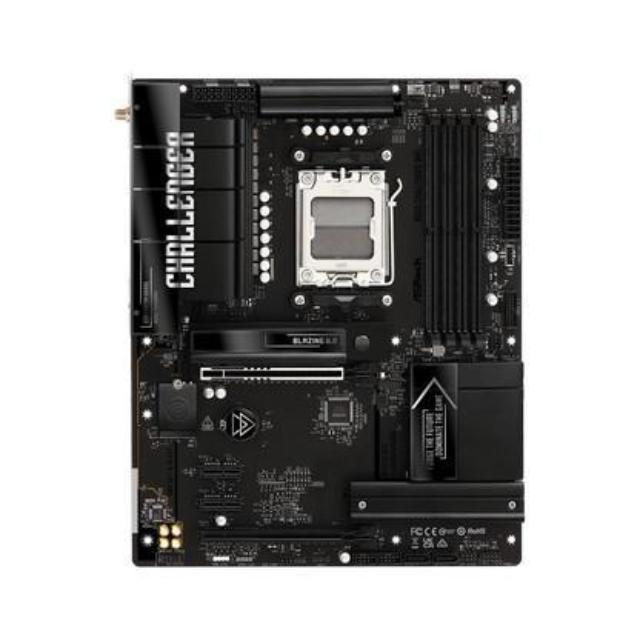Mainboard: (102, 72, 544, 580)
